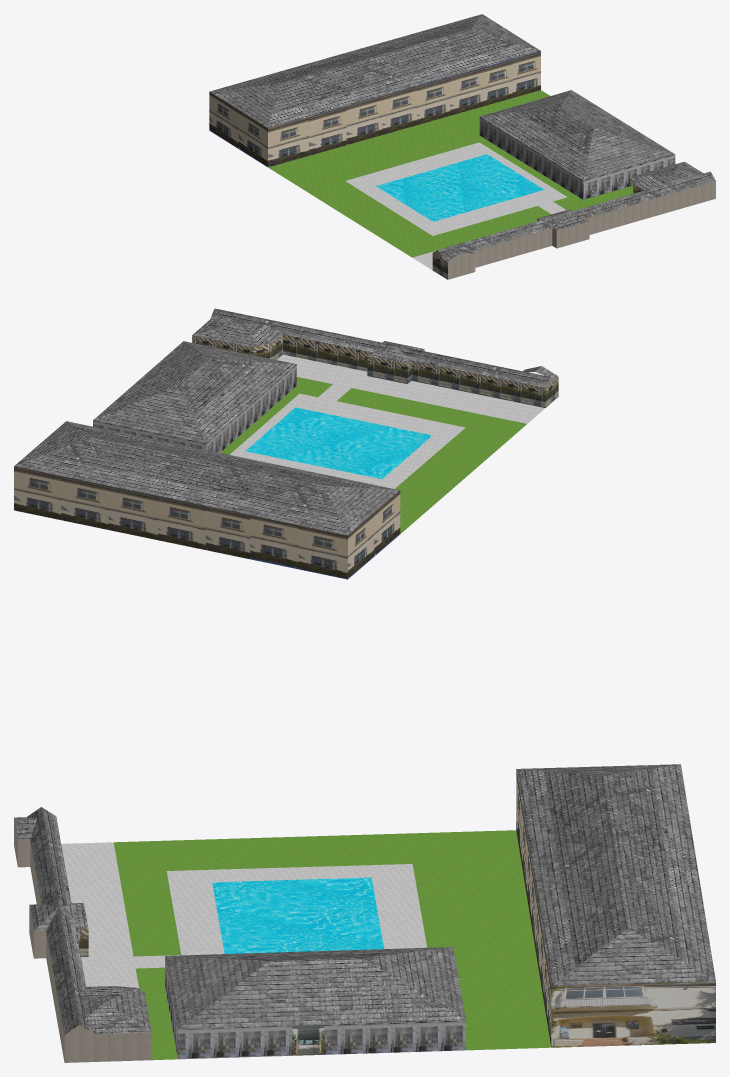
File: Lecu_Race2.gltf
3 views of the same model, one above another, from view 1: azimuth 30°, elevation 25°; view 2: azimuth 150°, elevation 25°; view 3: azimuth 270°, elevation 25° (orthographic). The views are drawn at different scales.
Parts seen in each view (by area): view 1: RACE; view 2: RACE; view 3: RACE.
Boxes of the visible parts, x1,y1,x2,y2 form: RACE: (209,14,715,279); RACE: (14,308,558,579); RACE: (14,764,715,1062).
Size of the model in its own units: 100 by 9.06 by 68.03.
